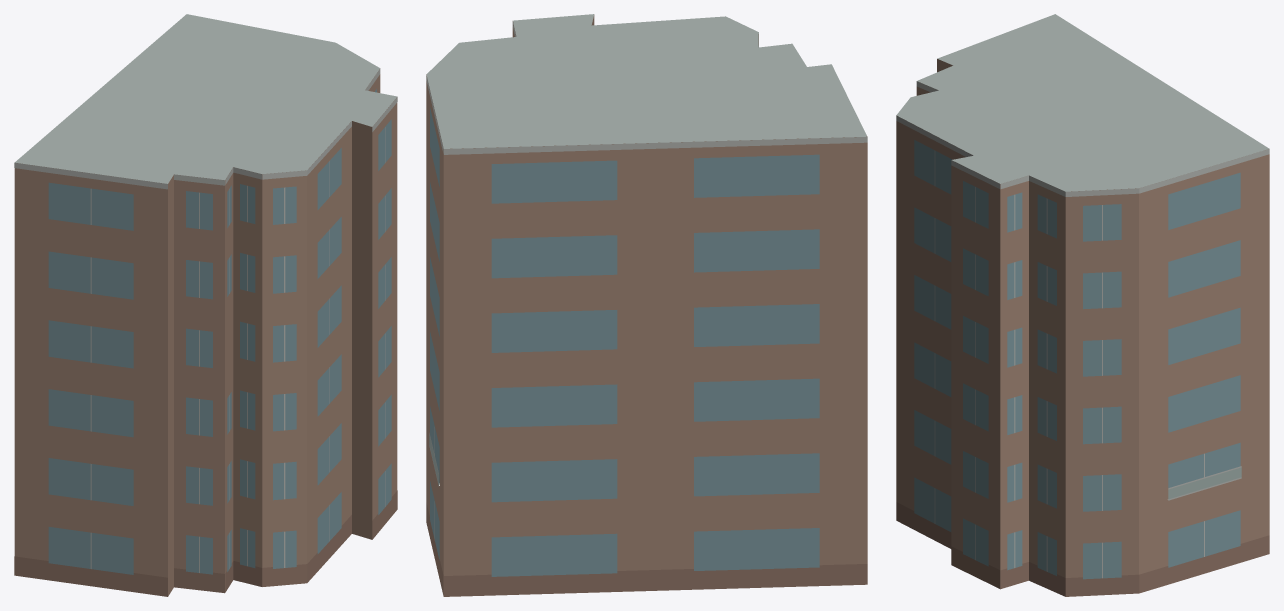
The model's file is survey-upis-32497099.glb.
3 renders of one model, left to right at view 1: azimuth 30°, elevation 25°; view 2: azimuth 150°, elevation 25°; view 3: azimuth 270°, elevation 25°, orthographic. The views are drawn at different scales.
Visible parts, largest first — view 1: survey-upis-32497099.tmp; view 2: survey-upis-32497099.tmp; view 3: survey-upis-32497099.tmp.
Part boxes in pixels (bbox=[...]): survey-upis-32497099.tmp: bbox=[14, 14, 397, 596]; survey-upis-32497099.tmp: bbox=[426, 14, 867, 596]; survey-upis-32497099.tmp: bbox=[896, 14, 1269, 596].
Size of the model in its own units: 17.22 by 18.3 by 15.29.
